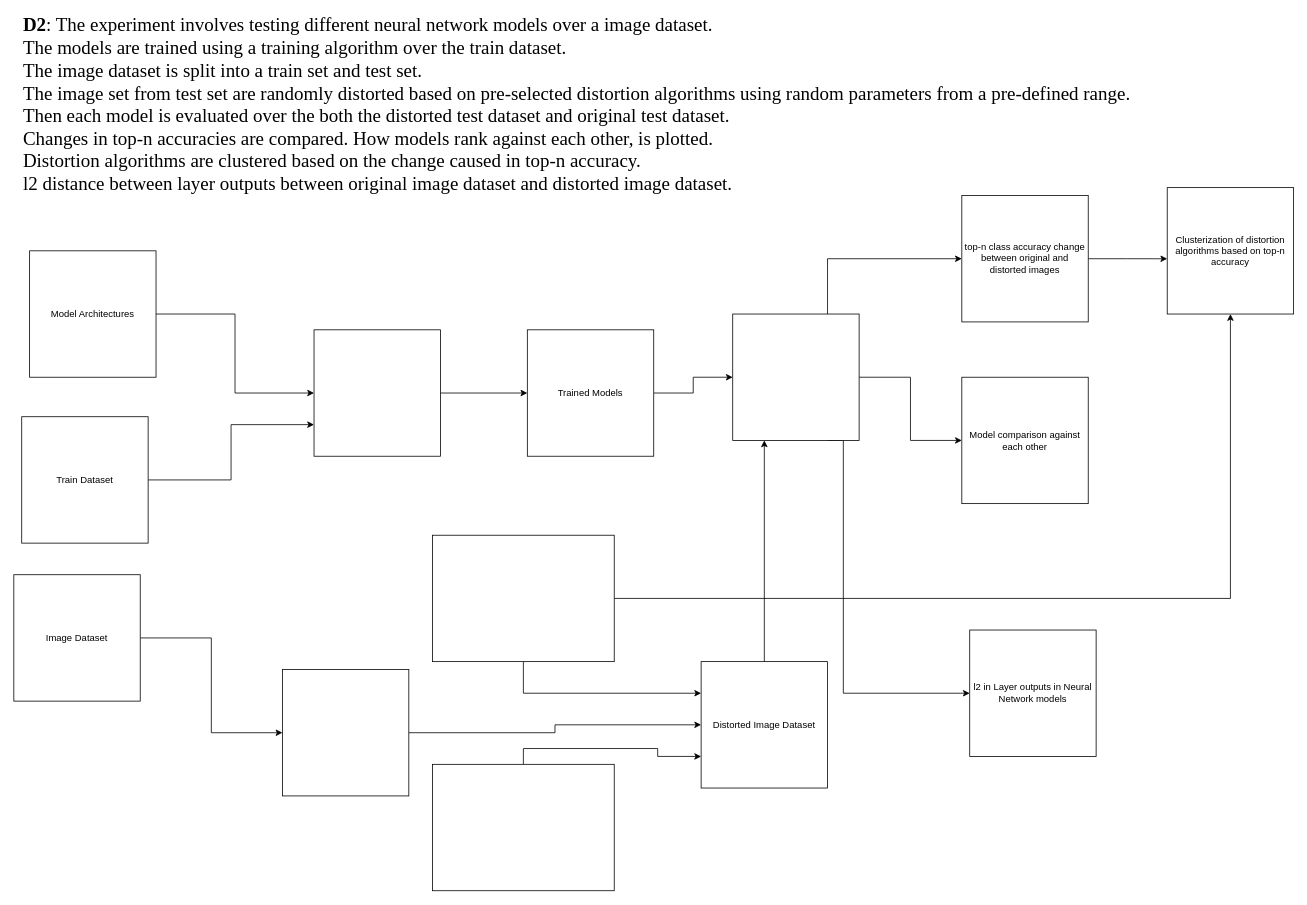
This 1307x905 diagram has some shape labels left out. Here are the shapes that lost their labels. From the top down, the box of each, then its label:
(313, 329, 440, 456): Training Algorithm
(732, 313, 859, 440): Evaluation
(432, 534, 614, 662): Image Distortion Algorithms
(282, 669, 409, 796): Test Dataset
(432, 764, 614, 891): Random Parameter for distortion
